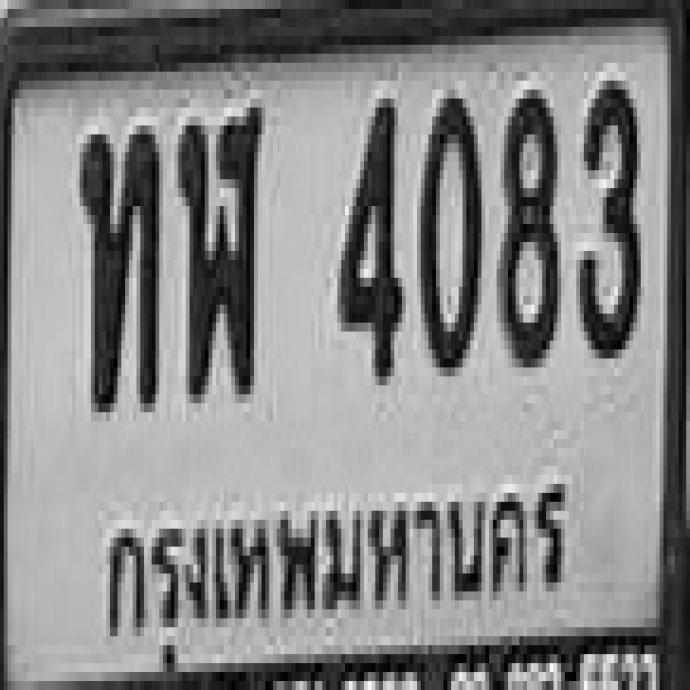0: (416, 87, 478, 367)
3: (576, 73, 637, 349)
4: (336, 90, 398, 377)
8: (495, 81, 556, 357)
A23: (77, 122, 157, 405)
A42: (176, 97, 259, 394)
BKK: (93, 463, 577, 646)
